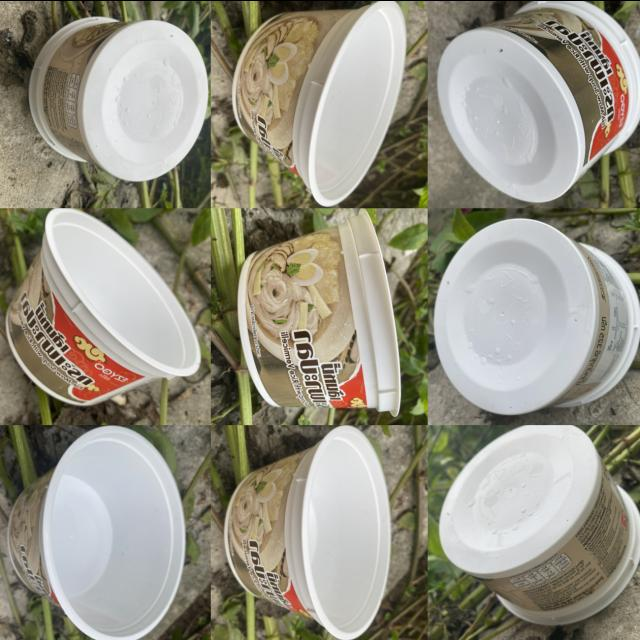plastik: (438, 0, 640, 201), (434, 218, 640, 414), (440, 425, 640, 624), (7, 208, 201, 405), (9, 425, 186, 640), (233, 0, 406, 205), (225, 425, 390, 638), (238, 209, 401, 415), (29, 16, 209, 180)
